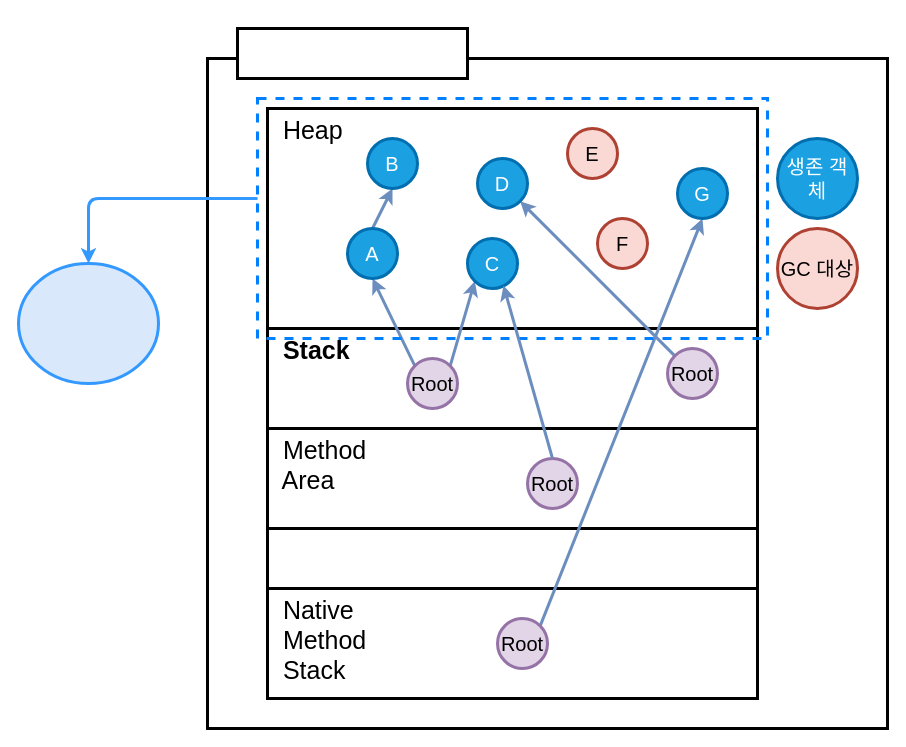
Some shapes in this 906 by 747 pixel diagram are drawn without their labels. The shapes that lost their labels are listed below. From the top down, each one's centre as x and y in pixels, then its label:
At [352,53]: "런타임 데이터 영역".
At [88,323]: "가비지 컬렉터".
At [512,558]: "PC Register".
